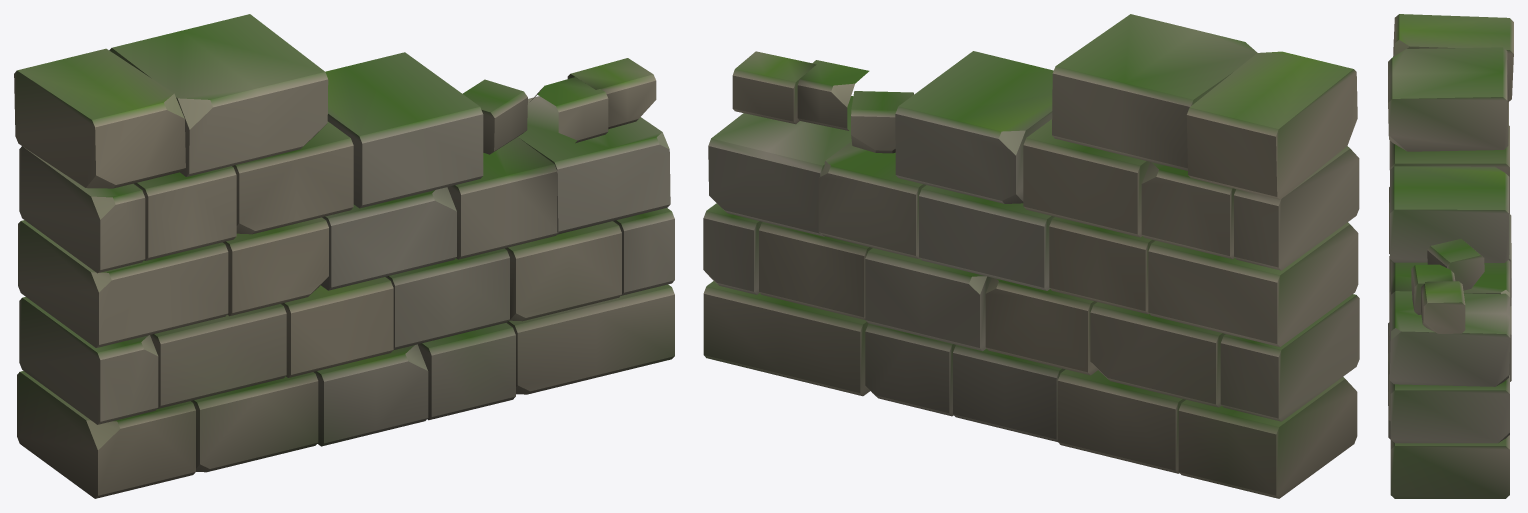
The model's file is ruin_wall.glb.
3 renders of one model, left to right at view 1: azimuth 30°, elevation 25°; view 2: azimuth 150°, elevation 25°; view 3: azimuth 270°, elevation 25°, orthographic. The views are drawn at different scales.
Parts seen in each view (by area): view 1: ruin_wall; view 2: ruin_wall; view 3: ruin_wall.
Part boxes in pixels (x1=…): ruin_wall: x1=14, y1=14, x2=674, y2=498; ruin_wall: x1=703, y1=14, x2=1359, y2=498; ruin_wall: x1=1388, y1=14, x2=1513, y2=498.
Bounding box in the file's own units: 4.01 × 2.49 × 1.02.
